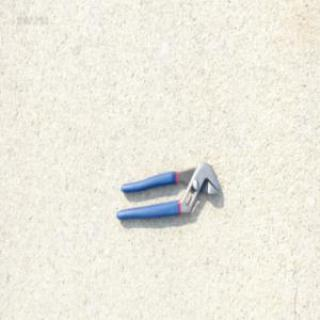Pliertrack_idkeyframe: (114, 160, 220, 220)
